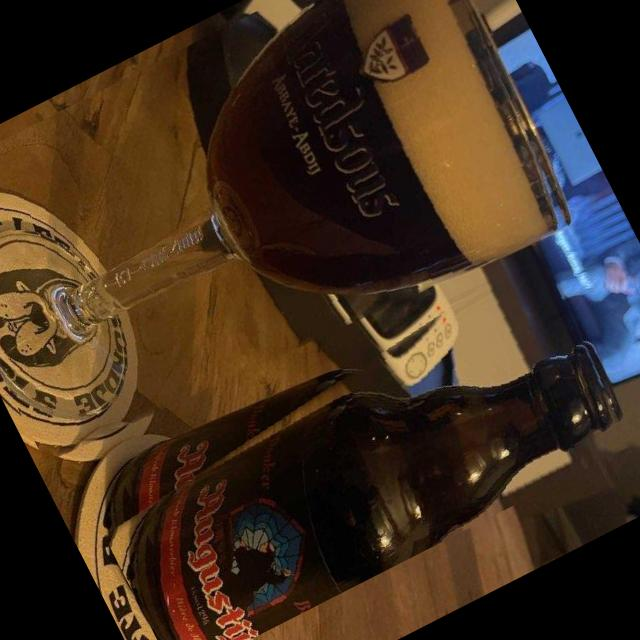Glass: (0, 0, 580, 486), (77, 246, 640, 640)
